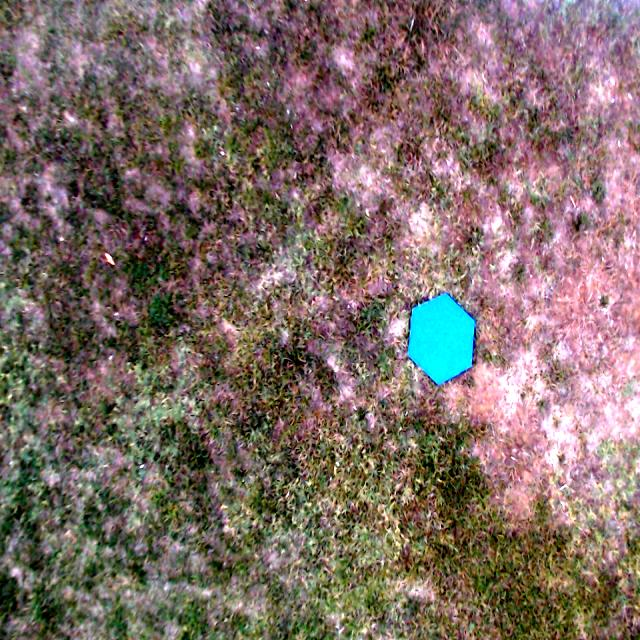blue_hexagon: (406, 292, 476, 386)
